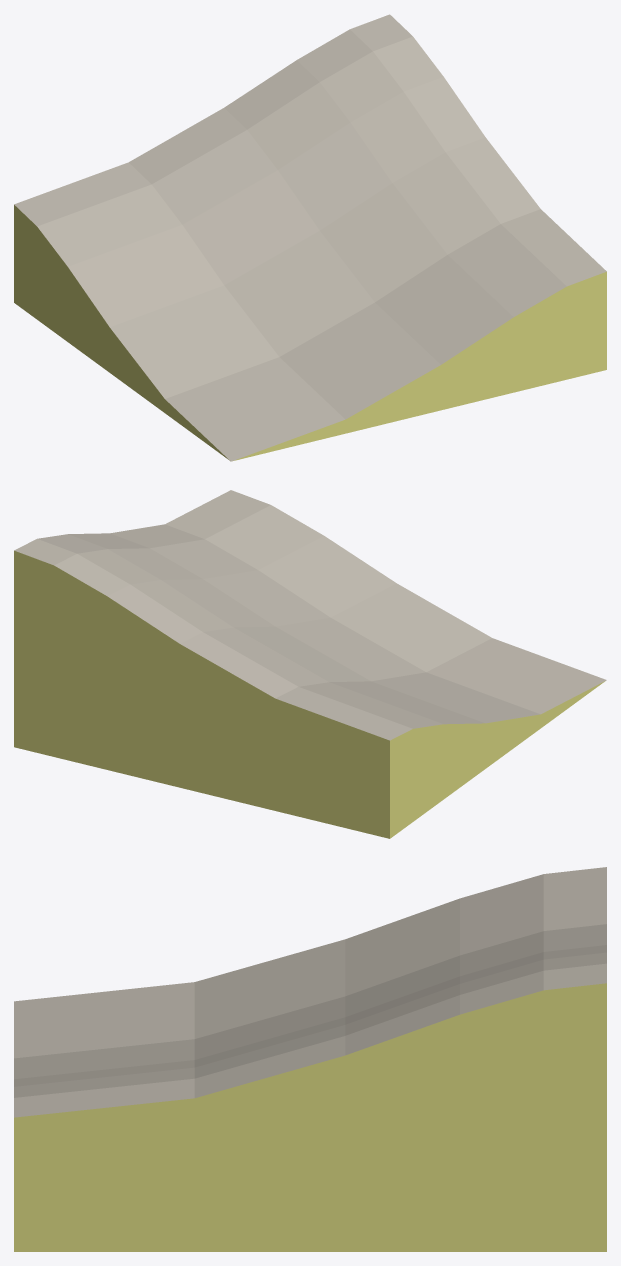
Rendered from Floor_Overlapping_4x4.glb.
3 views of the same model, one above another, from view 1: azimuth 30°, elevation 25°; view 2: azimuth 150°, elevation 25°; view 3: azimuth 270°, elevation 25° (orthographic). The views are drawn at different scales.
Parts seen in each view (by area): view 1: Floor_Overlapping_4x4; view 2: Floor_Overlapping_4x4; view 3: Floor_Overlapping_4x4.
Boxes of the visible parts, x1=… form: Floor_Overlapping_4x4: x1=14, y1=14, x2=606, y2=461; Floor_Overlapping_4x4: x1=14, y1=490, x2=606, y2=838; Floor_Overlapping_4x4: x1=14, y1=867, x2=606, y2=1251.
Bounding box in the file's own units: 400 × 200 × 400.
